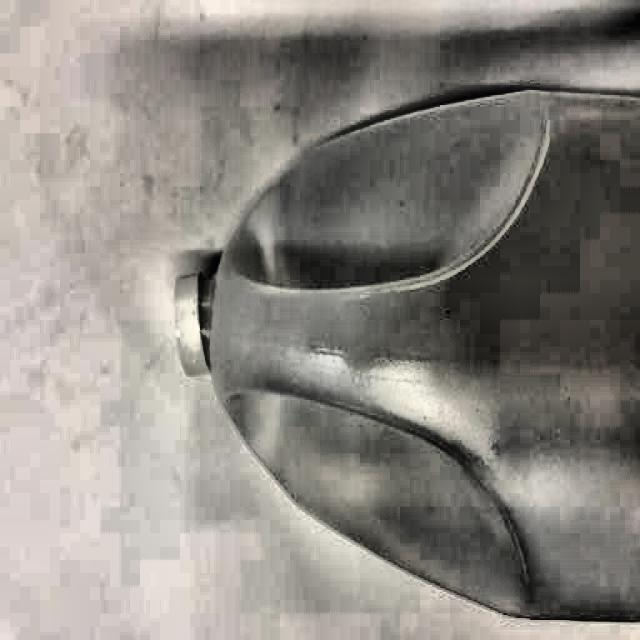plastic: (159, 114, 582, 571)
